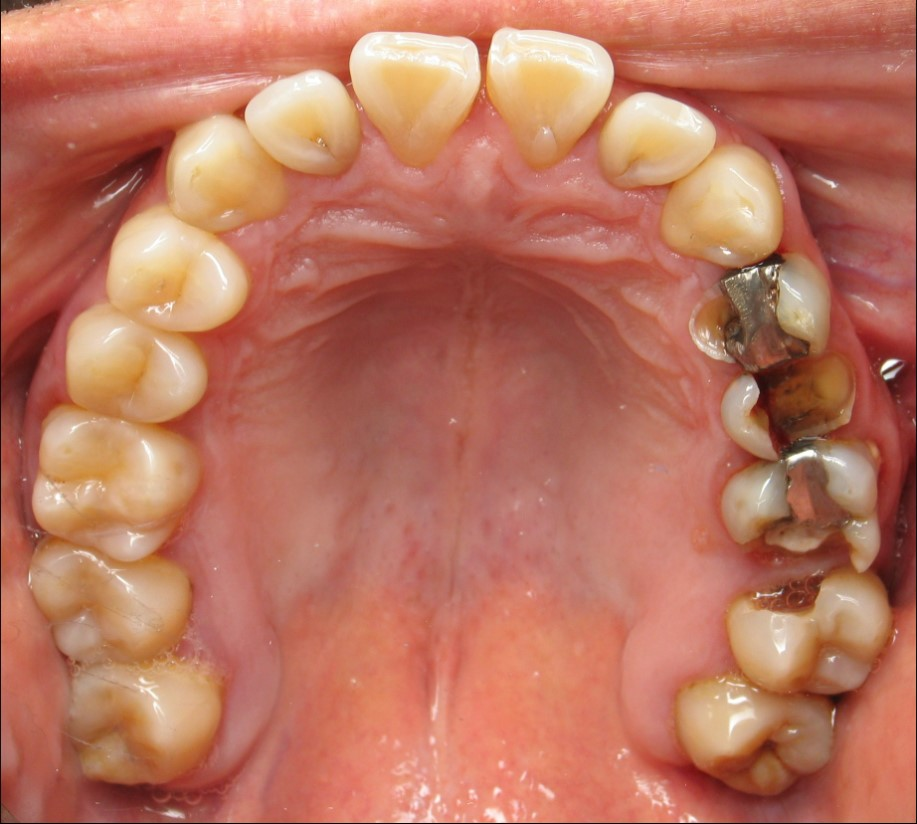UL1BC_decay: (693, 261, 835, 367)
UL1M_decay: (731, 452, 881, 579)
UL2BC_decay: (729, 364, 857, 454)
UL2M_decay: (734, 570, 889, 694)
UL3M_healthy: (686, 674, 835, 796)
ULCI_healthy: (485, 27, 615, 171)
ULC_healthy: (672, 154, 783, 266)
ULLI_healthy: (603, 89, 711, 195)
UR1BC_healthy: (105, 214, 252, 334)
UR1M_healthy: (42, 411, 202, 559)
UR2BC_healthy: (65, 311, 206, 423)
UR2M_healthy: (30, 542, 201, 662)
UR3M_healthy: (63, 663, 224, 791)
URCI_healthy: (352, 28, 481, 169)
URC_healthy: (165, 114, 286, 227)
URLI_healthy: (253, 68, 360, 176)
